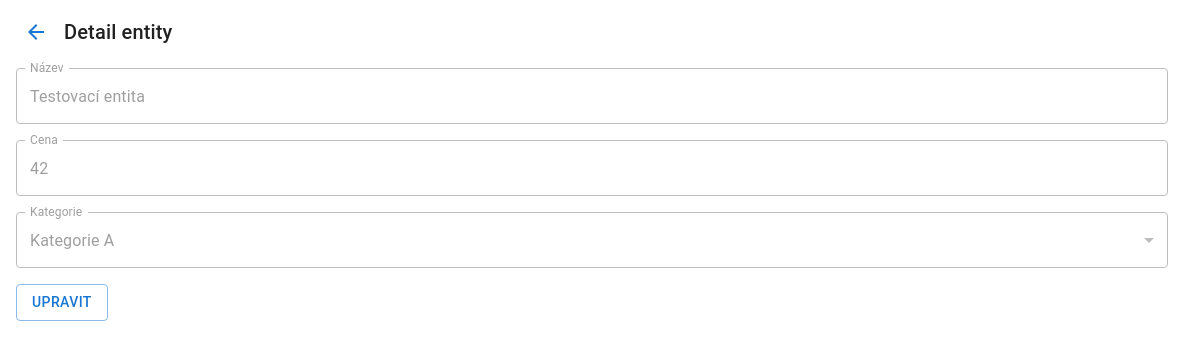
Test: EntityDetail › přepne do editačního režimu
Click the button "Upravit".
click(62, 302)  # box [16,284,108,320]
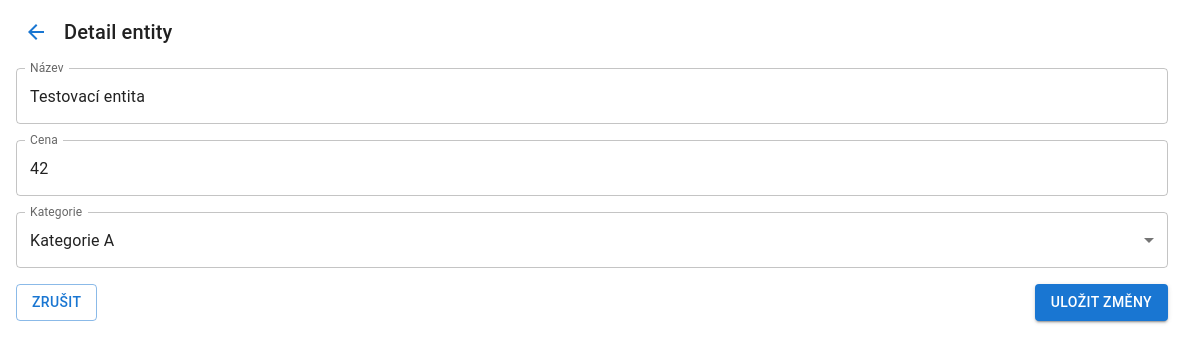
Expected: the field labelled "Název" is enabled, [16,68,1168,124]
